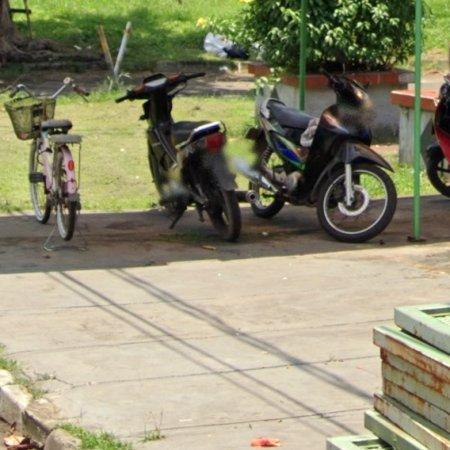motorcycles: (236, 74, 398, 243), (116, 73, 241, 242)
